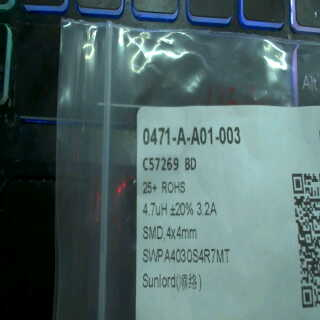4.7uH: (141, 200, 169, 222)
